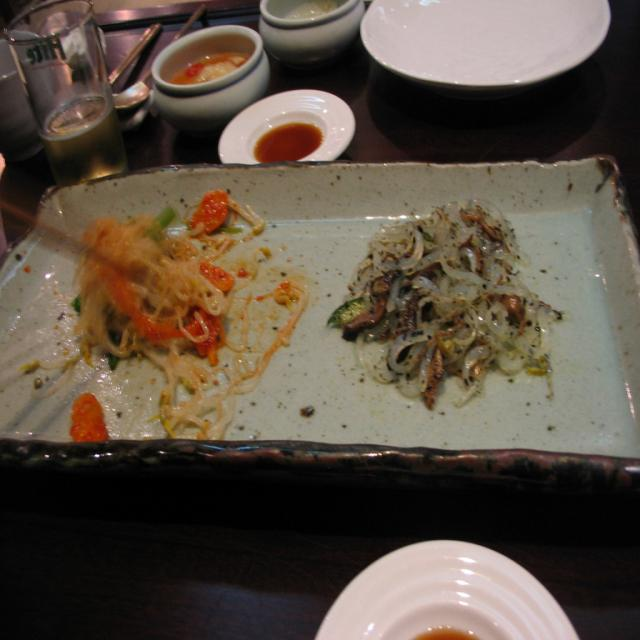non-organic waste: (296, 530, 618, 640), (349, 0, 640, 115), (203, 78, 371, 208)
